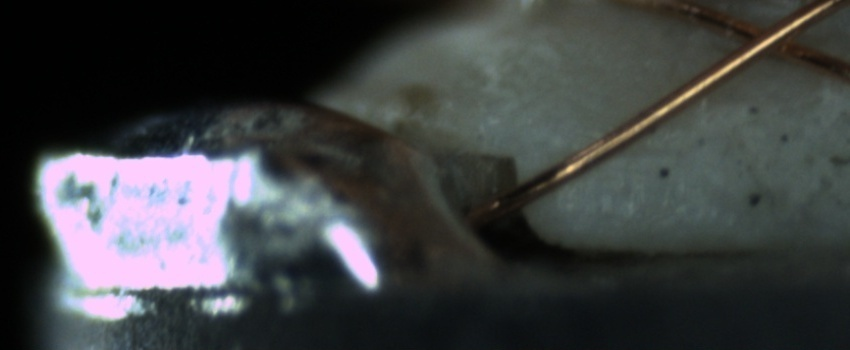CL: (719, 5, 822, 69)
DL: (578, 129, 696, 179)
